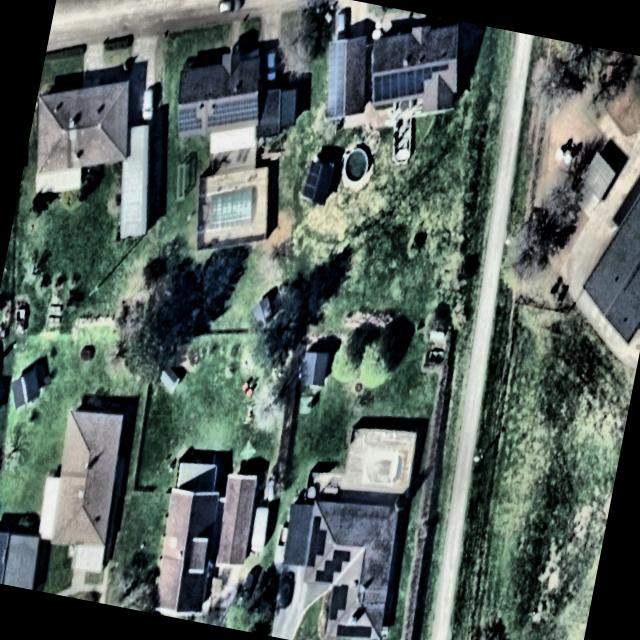roof_pv: (311, 39, 358, 124), (366, 60, 428, 112), (208, 84, 264, 136), (300, 512, 336, 572), (316, 541, 355, 591), (324, 578, 352, 626), (174, 102, 207, 136), (423, 54, 456, 82), (334, 618, 376, 640)
